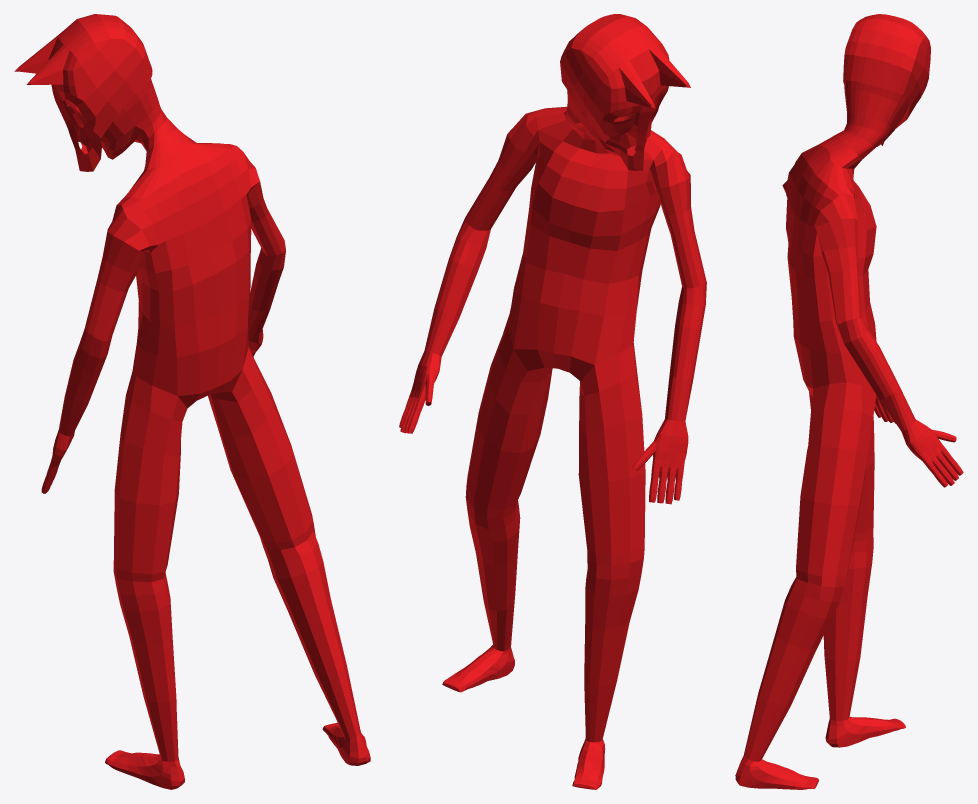
File: reposoE_000238.obj
The picture shows the model from 3 angles, left to right: view 1: azimuth 30°, elevation 25°; view 2: azimuth 150°, elevation 25°; view 3: azimuth 270°, elevation 25°; orthographic projection. The views are drawn at different scales.
Visible parts, largest first — view 1: Plane.002_Plane.001; view 2: Plane.002_Plane.001; view 3: Plane.002_Plane.001.
Boxes of the visible parts, left/top/right/bottom form: Plane.002_Plane.001: left=14, top=14, right=370, bottom=789; Plane.002_Plane.001: left=399, top=14, right=706, bottom=789; Plane.002_Plane.001: left=735, top=14, right=963, bottom=789.
Bounding box in the file's own units: 2.73 × 7.03 × 2.06.
